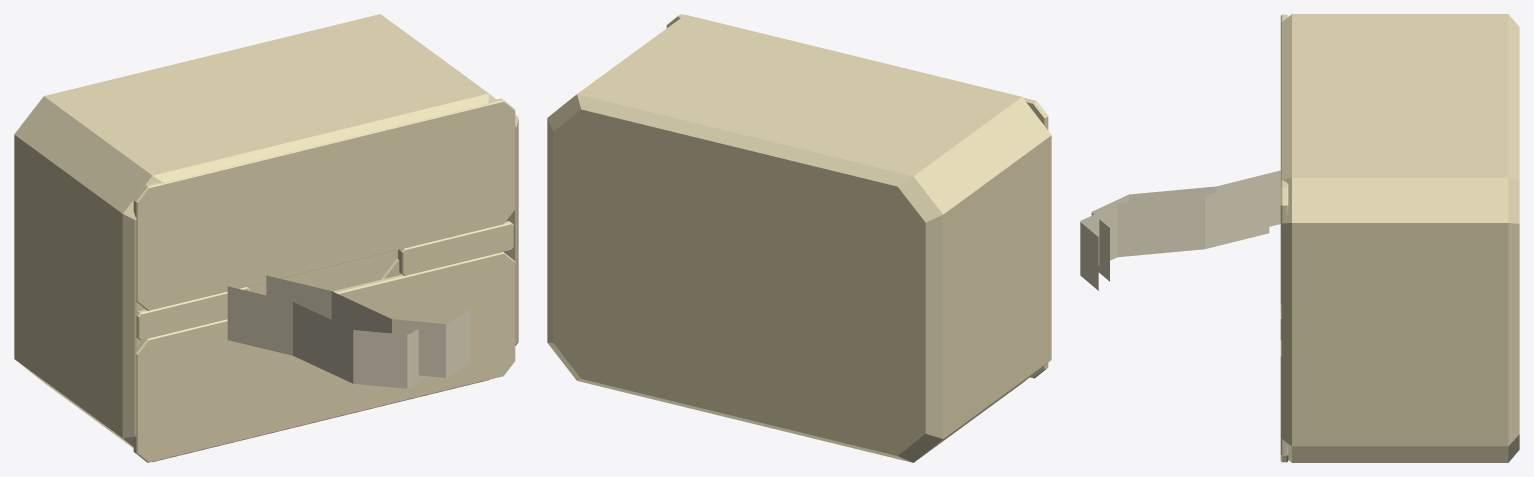
File: tissues.glb
3 views of the same model, side by side, from view 1: azimuth 30°, elevation 25°; view 2: azimuth 150°, elevation 25°; view 3: azimuth 270°, elevation 25° (orthographic).
Visible parts, largest first — view 1: tissues; view 2: tissues; view 3: tissues.
Part boxes in pixels (x1=…): tissues: x1=14, y1=14, x2=518, y2=462; tissues: x1=547, y1=14, x2=1051, y2=462; tissues: x1=1080, y1=14, x2=1519, y2=462.
Size of the model in its own units: 0.12 by 0.0838 by 0.1159.
